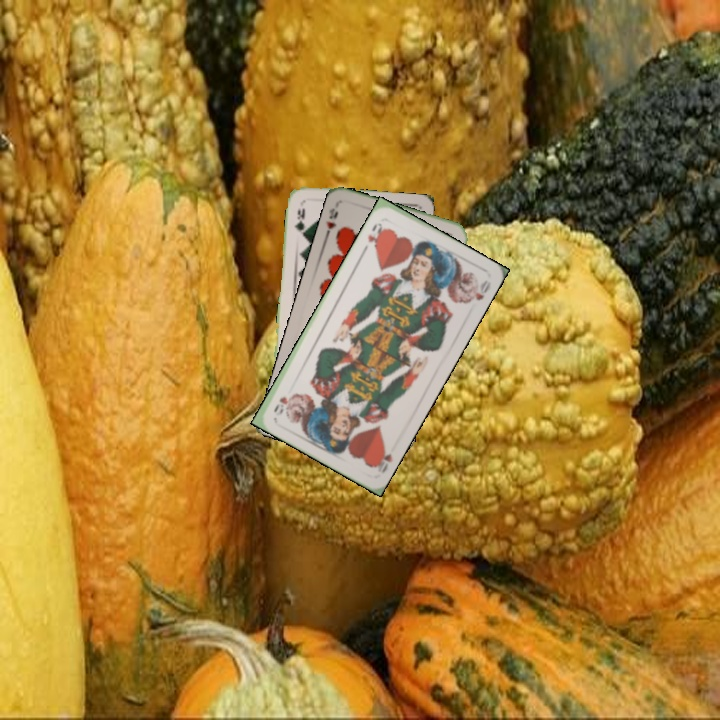G9: (291, 204, 308, 238)
H9: (321, 200, 341, 240)
HO: (370, 441, 395, 475), (363, 218, 388, 250)
